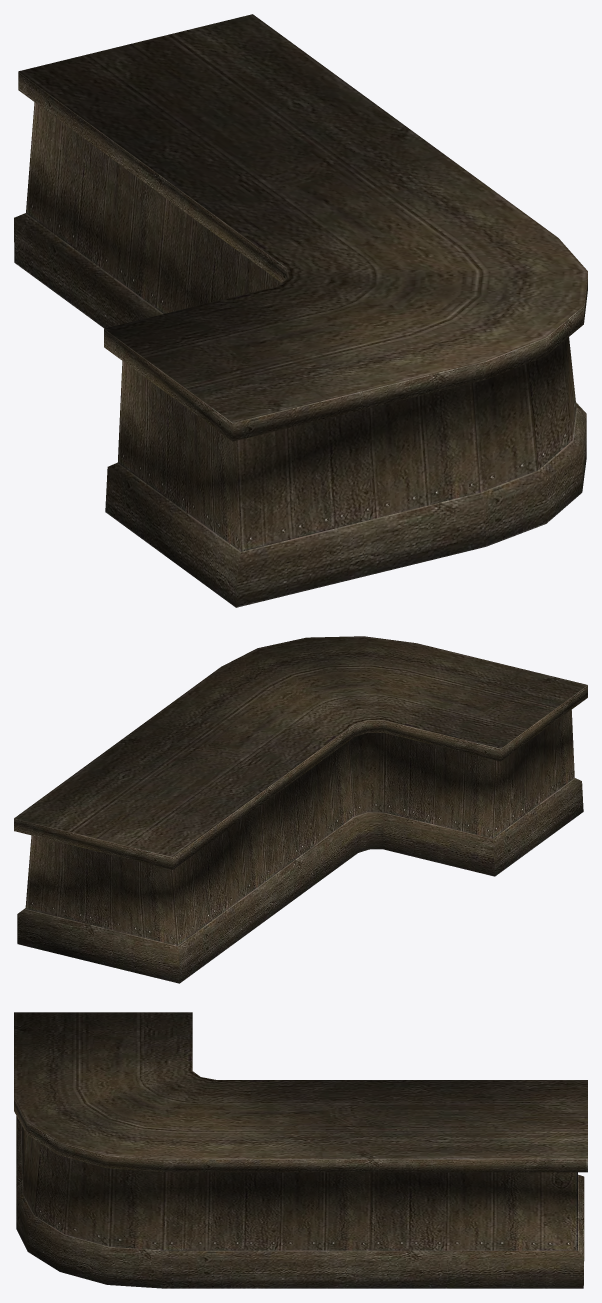
File: KM_VOB_COUNTER_02.glb
The picture shows the model from 3 angles, top to bottom: view 1: azimuth 30°, elevation 25°; view 2: azimuth 150°, elevation 25°; view 3: azimuth 270°, elevation 25°; orthographic projection. The views are drawn at different scales.
Visible parts, largest first — view 1: Mesh; view 2: Mesh; view 3: Mesh.
Boxes of the visible parts, x1,y1,x2,y2 form: Mesh: (14, 14, 587, 607); Mesh: (14, 636, 587, 983); Mesh: (14, 1012, 587, 1288).
Bounding box in the file's own units: 2.56 × 1.06 × 4.22.
1 material, 1 textured.
